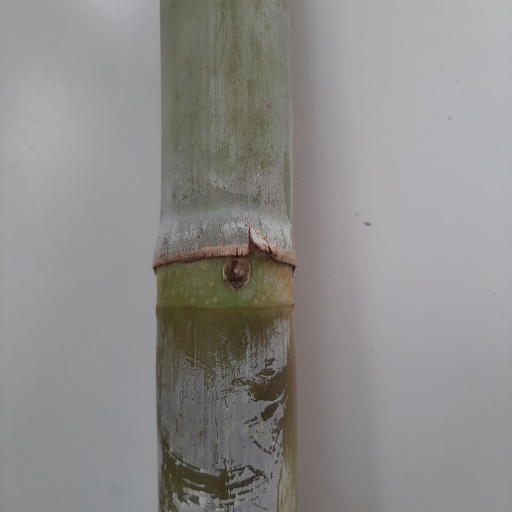Bud: (222, 256, 249, 290)
